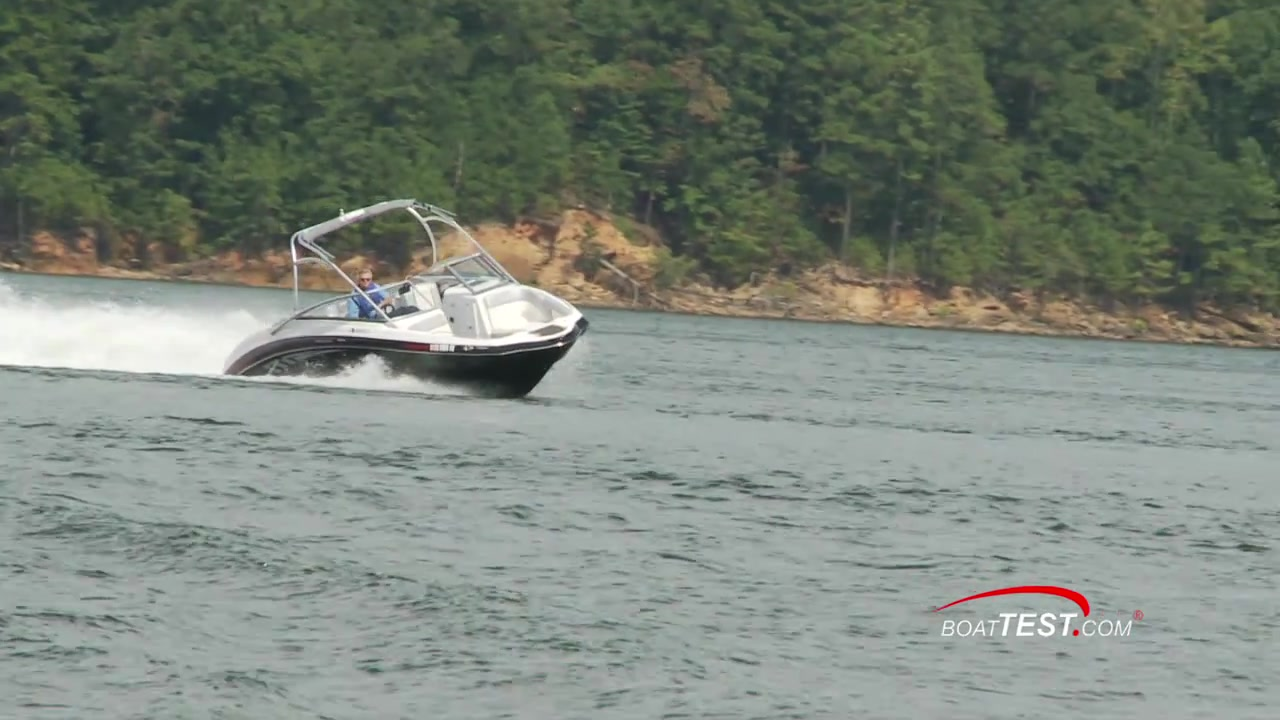boat: (221, 192, 591, 402)
